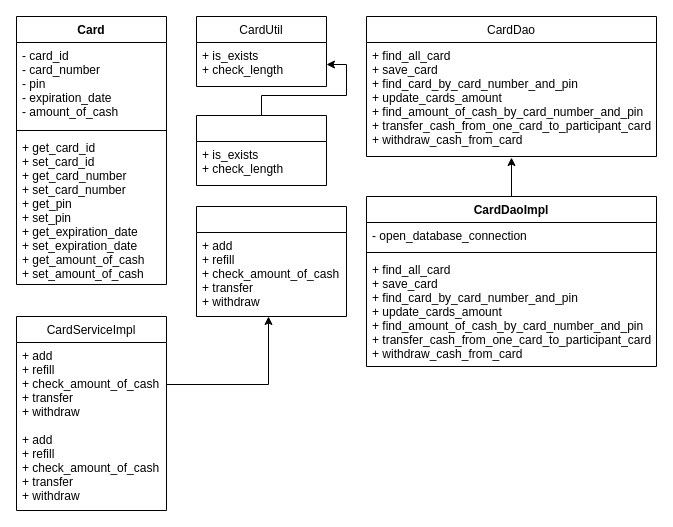
Image size: 673x527. Some labels were removed from this diagram. The box of each missing label's shape, as (x1, y1, x2, y2) in pixels:
CardService: (196, 206, 346, 316)
CardUtilImpl: (196, 114, 326, 186)
